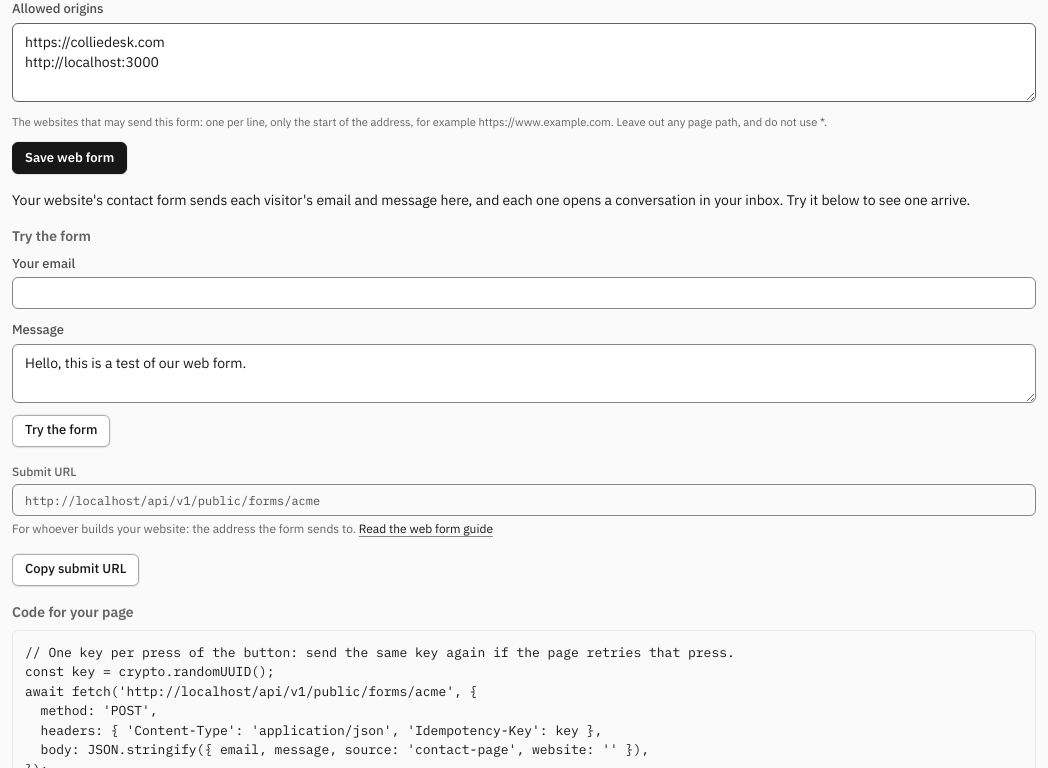
Test case: one copy message at a time: copying the code replaces what copying the URL said
What coordinates should you click on to do the following:
click the button "Copy submit URL"
I would click on:
 (76, 570)
Its box is [12,554,139,586].
(page scrolled)
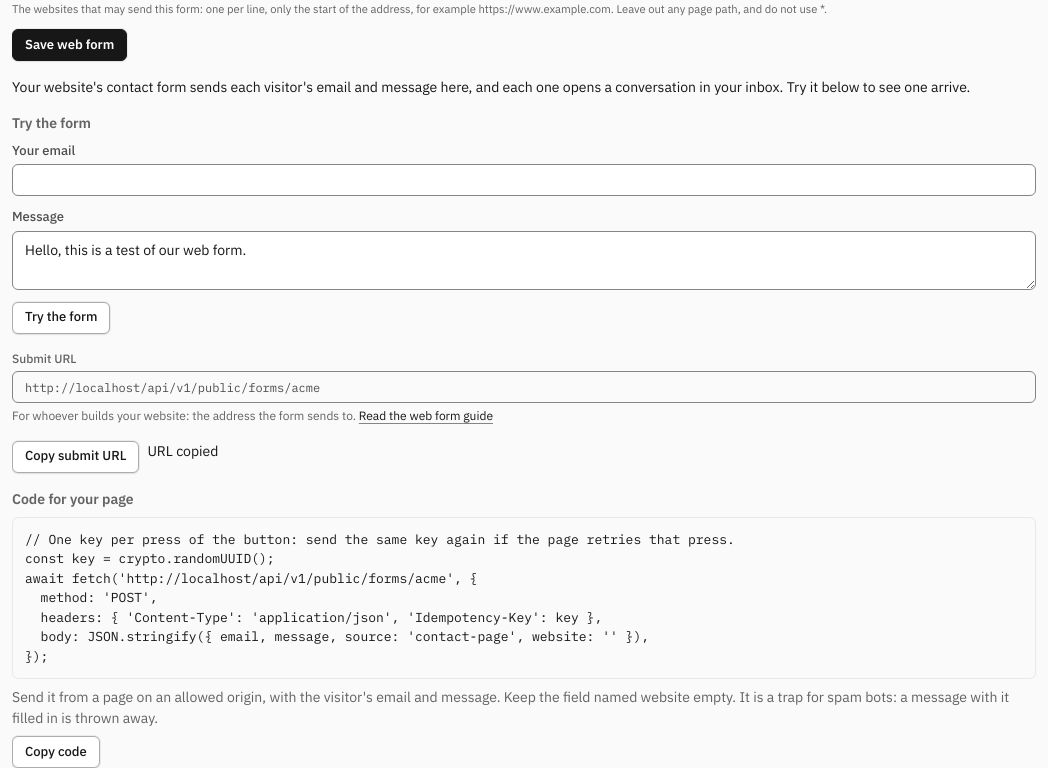
expect the text "URL copied" is shown: met, box [147,442,218,460]
What coordinates should you click on to do the following:
click the button "Copy code"
I would click on:
 (56, 752)
Its box is [12,736,100,767].
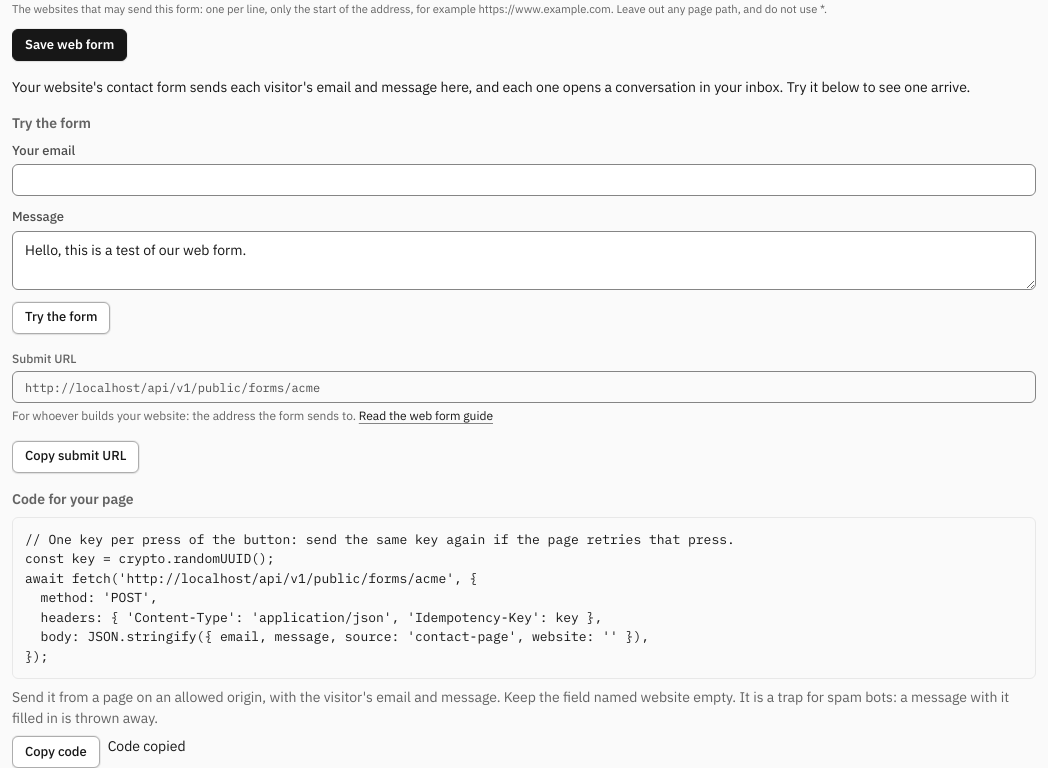
expect the text "Code copied" is shown: met, box [108,737,186,755]
expect the text "URL copied" is gone: met
